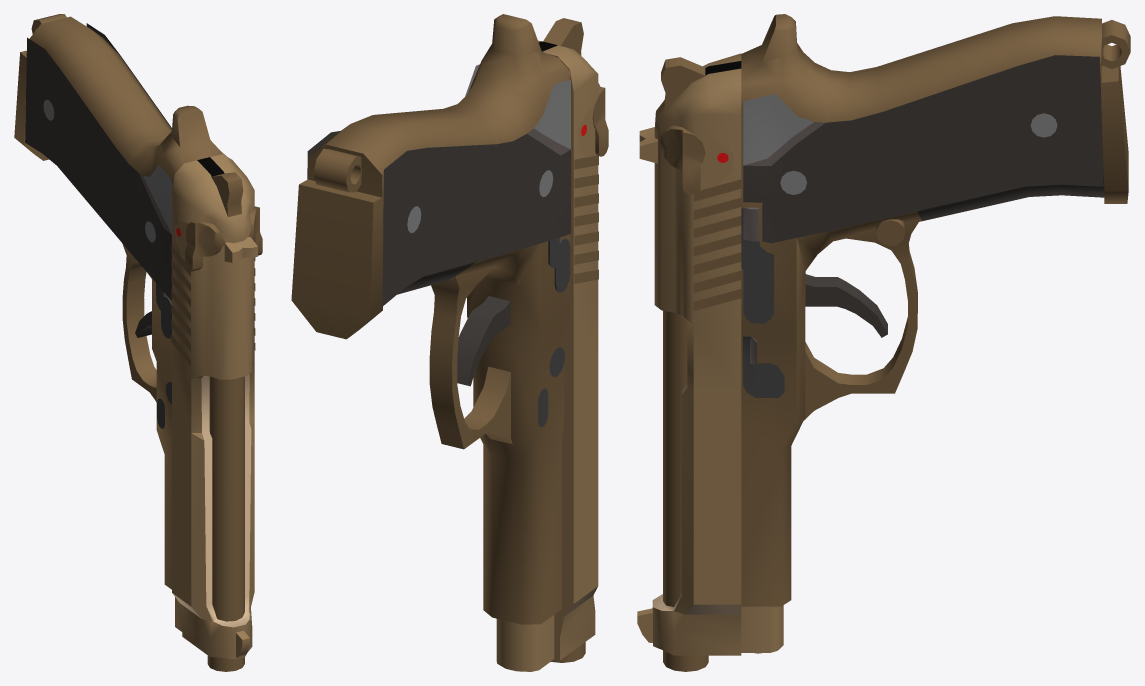
File: Pistol.glb
3 renders of one model, left to right at view 1: azimuth 30°, elevation 25°; view 2: azimuth 150°, elevation 25°; view 3: azimuth 270°, elevation 25°, orthographic. The views are drawn at different scales.
Parts seen in each view (by area): view 1: body.001, slide.001, mag.001, hammer; view 2: body.001, slide.001, mag.001, trigger, hammer; view 3: body.001, slide.001, mag.001, trigger, hammer.
Part boxes in pixels (<box>): body.001: <box>25,14,244,671</box>; slide.001: <box>171,154,262,659</box>; mag.001: <box>14,50,48,160</box>; hammer: <box>211,172,243,217</box>; body.001: <box>307,14,585,662</box>; slide.001: <box>496,40,608,671</box>; mag.001: <box>291,179,382,339</box>; trigger: <box>457,296,510,386</box>; hammer: <box>543,18,583,55</box>; body.001: <box>663,14,1130,671</box>; slide.001: <box>637,53,783,655</box>; mag.001: <box>1101,65,1128,203</box>; trigger: <box>805,274,887,337</box>; hammer: <box>661,57,705,109</box>.
Size of the model in its own units: 0.000322 by 0.00231 by 0.00161.
1 material, 1 textured.
